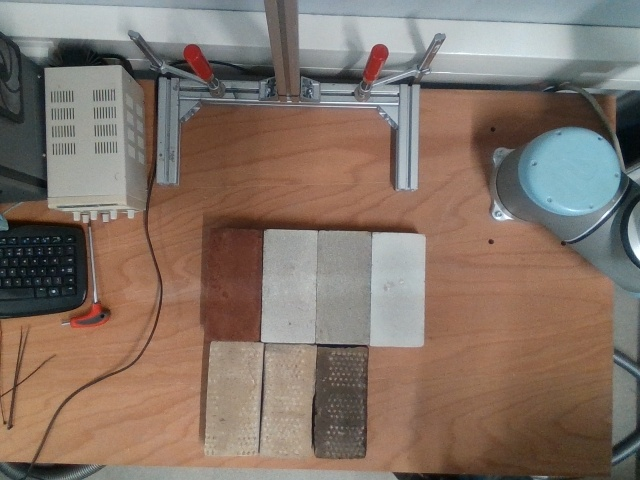brick: (201, 342, 263, 457), (203, 230, 262, 343), (314, 232, 371, 344), (259, 343, 314, 459), (260, 231, 316, 343), (314, 347, 369, 459), (371, 233, 424, 347)
